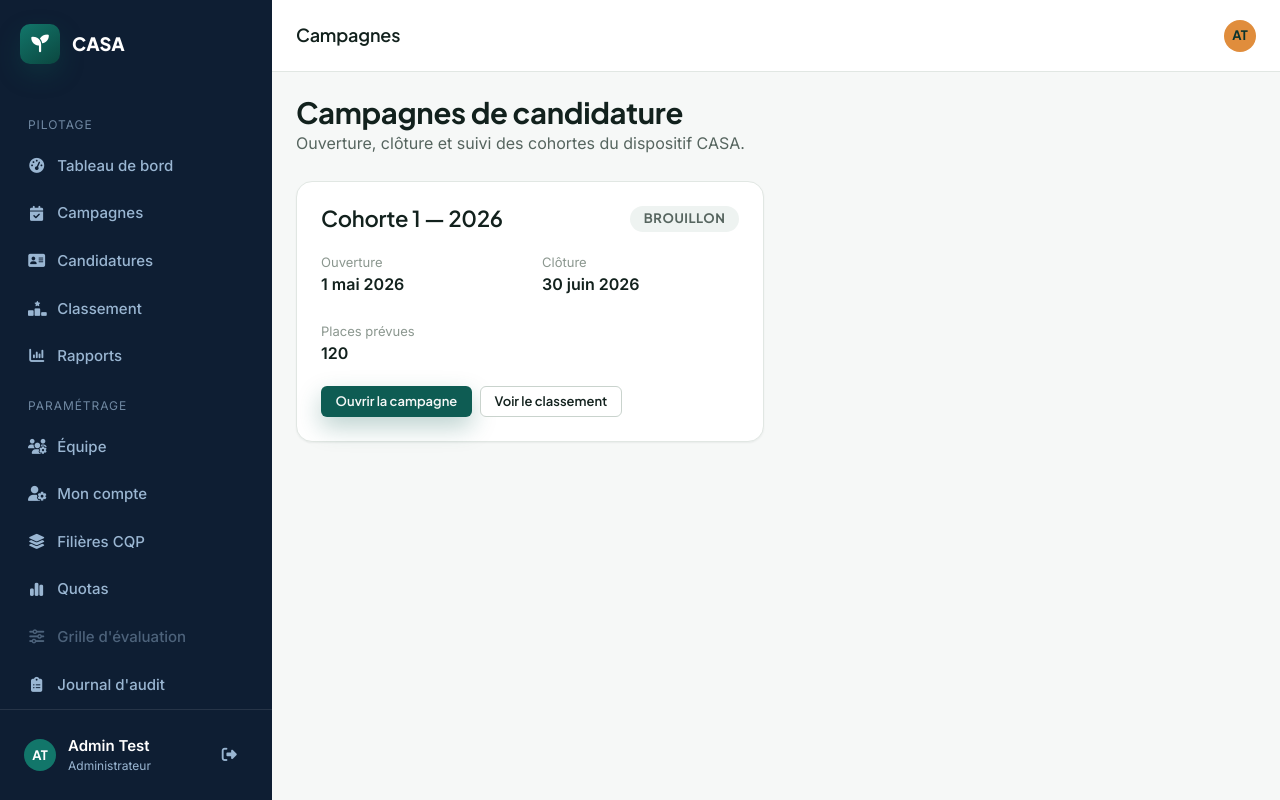
Campagnes — GET /admin/campagnes (nouvel endpoint) + transitions › 409 (une autre campagne déjà ouverte) -> message VERBATIM affiché
Expected: the heading "Cohorte 1 — 2026" is shown, x1=321 y1=206 x2=503 y2=231
Click the button "Ouvrir la campagne" at (396, 401), box x1=321 y1=386 x2=472 y2=416
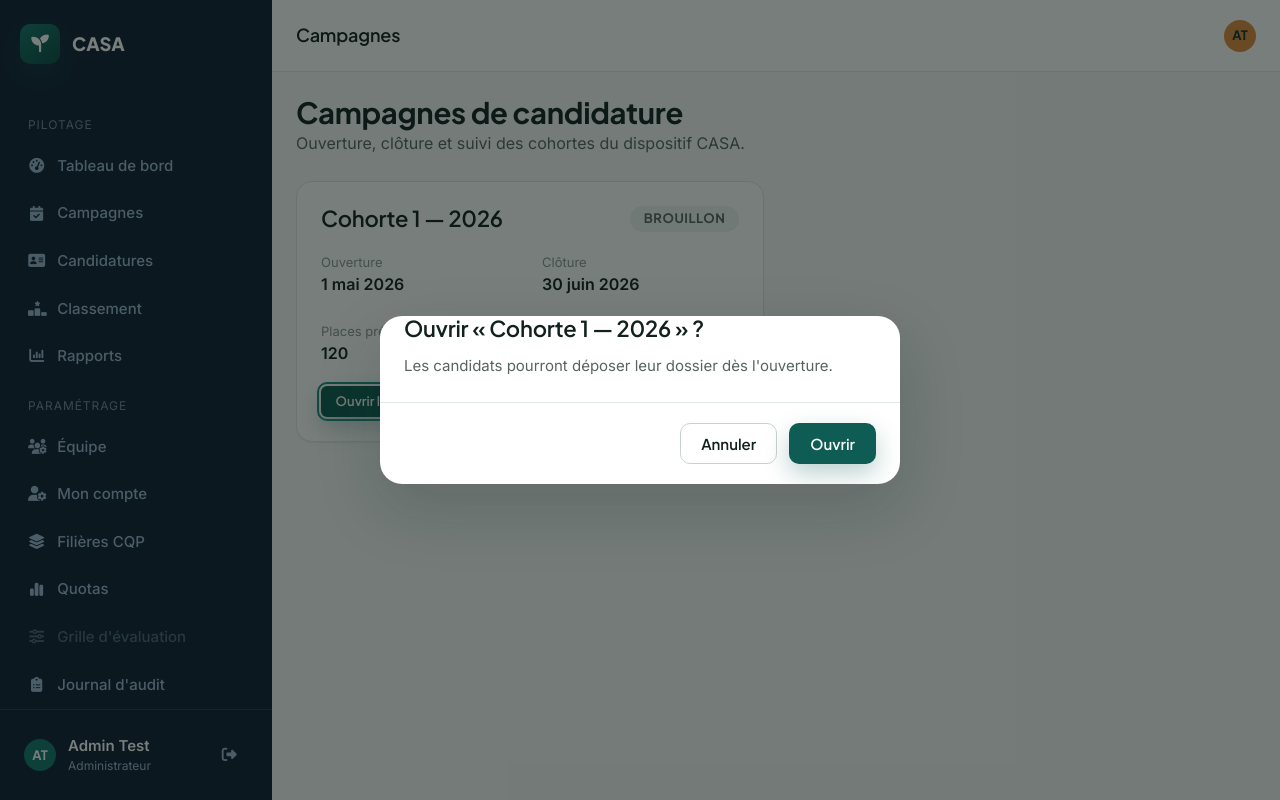
Click the button "Ouvrir" at (833, 444), box x1=789 y1=423 x2=876 y2=464
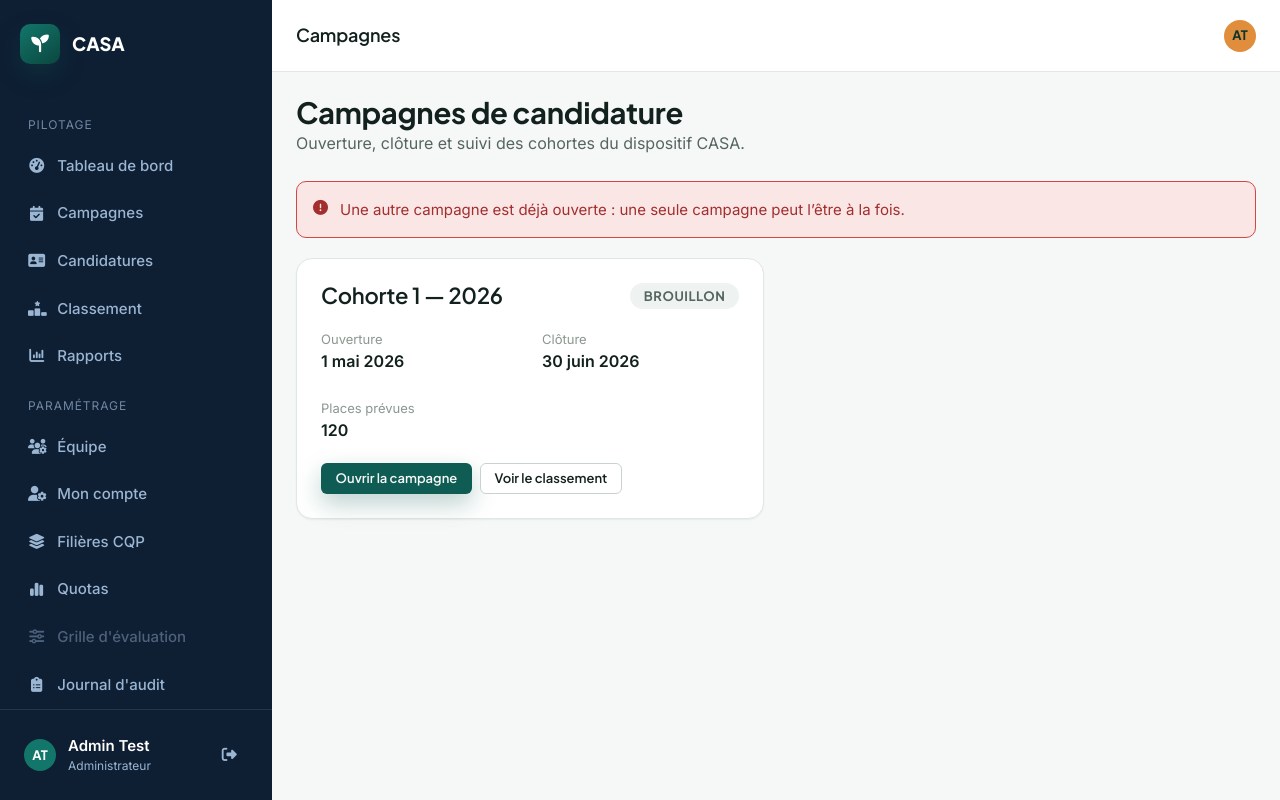
Now the text "Une autre campagne est déjà ouverte" is shown, box x1=340 y1=200 x2=905 y2=219
